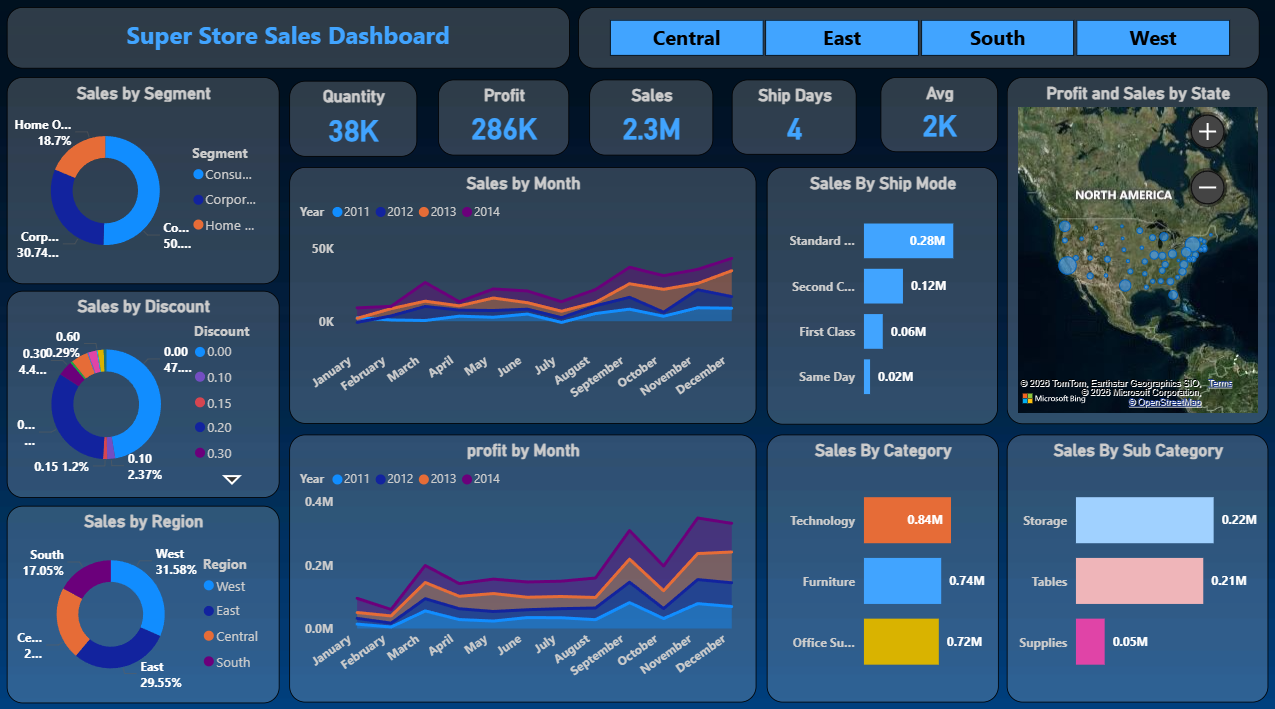

The dashboard page shown, as its layout file describes it:
{"tool":"powerbi","page":{"name":"Page 1","canvas":[1280,720],"ordinal":0},"visuals":[{"type":"clusteredBarChart","title":" Sales By Category","fields":{"Category":["Superstore.Category"],"Y":["Sum(Superstore.Sales)"]},"box":[768.5,437.9,231.6,267.8],"z":0},{"type":"clusteredBarChart","title":" Sales By Sub Category","fields":{"Category":["Superstore.Sub-Category"],"Y":["Sum(Superstore.Sales)"]},"box":[1008.6,437.9,261.8,267.8],"z":1000},{"type":"clusteredBarChart","title":" Sales By Ship Mode","fields":{"Category":["Superstore.Ship Mode"],"Y":["Sum(Superstore.Sales)"]},"box":[768.8,170,231.2,257.5],"z":2000},{"type":"stackedAreaChart","title":"profit by Month ","fields":{"Category":["Superstore.Order Date.Variation.Date Hierarchy.Month"],"Y":["Sum(Superstore.Sales)"],"Series":["Superstore.Order Date.Variation.Date Hierarchy.Year"]},"box":[290.8,437.9,466.9,267.8],"z":3000},{"type":"stackedAreaChart","title":"Sales by Month ","fields":{"Category":["Superstore.Order Date.Variation.Date Hierarchy.Month"],"Series":["Superstore.Order Date.Variation.Date Hierarchy.Year"],"Y":["Sum(Superstore.Profit)"]},"box":[290.8,170.1,466.9,257],"z":4000},{"type":"map","title":"Profit and Sales by State","fields":{"Category":["Superstore.State"],"Size":["Sum(Superstore.Sales)"]},"box":[1008.6,79.6,261.8,347.5],"z":5000},{"type":"donutChart","title":"Sales by Segment","fields":{"Category":["Superstore.Segment"],"Y":["Sum(Superstore.Sales)"]},"box":[8.4,79.6,272.7,207.5],"z":6000},{"type":"donutChart","title":" Sales by Discount","fields":{"Y":["Sum(Superstore.Sales)"],"Series":["Superstore.Discount"]},"box":[8.8,293.8,272.5,207.5],"z":7000},{"type":"slicer","fields":{"Values":["Superstore.Region"]},"box":[580.3,9.7,681.6,61.5],"z":8000},{"type":"textbox","box":[8.4,9.7,563.4,61.5],"z":9000},{"type":"card","title":"Sales","fields":{"Values":["Sum(Superstore.Sales)"]},"box":[591.2,82,124.3,76],"z":10000},{"type":"card","title":"Quantity","fields":{"Values":["Sum(Superstore.Quantity)"]},"box":[290.8,83.2,127.9,76],"z":11000},{"type":"card","title":"Profit","fields":{"Values":["Sum(Superstore.Profit)"]},"box":[440.4,82,131.5,76],"z":12000},{"type":"card","title":"Ship Days","fields":{"Values":["Avg(Superstore.Average Delivery)"]},"box":[733.8,82.5,125,75],"z":13000},{"type":"donutChart","title":" Sales by Region","fields":{"Category":["Superstore.Region"],"Y":["Sum(Superstore.Sales)"]},"box":[8.8,508.8,272.5,197.5],"z":14000},{"type":"card","title":"Avg","fields":{"Values":["Sum(Superstore.Discount)"]},"box":[882.5,80,117.5,75],"z":15000}]}

Visuals, with their boxes in screenshot pixels (x1, y1, x2, y2), scaled from the page's 1280x720 canvas onto the 1275x709 screenshot:
" Sales By Category" clusteredBarChart: l=765, t=431, r=996, b=695
" Sales By Sub Category" clusteredBarChart: l=1005, t=431, r=1265, b=695
" Sales By Ship Mode" clusteredBarChart: l=766, t=167, r=996, b=421
"profit by Month " stackedAreaChart: l=290, t=431, r=755, b=695
"Sales by Month " stackedAreaChart: l=290, t=168, r=755, b=421
"Profit and Sales by State" map: l=1005, t=78, r=1265, b=421
"Sales by Segment" donutChart: l=8, t=78, r=280, b=283
" Sales by Discount" donutChart: l=9, t=289, r=280, b=494
slicer - Superstore.Region: l=578, t=10, r=1257, b=70
textbox: l=8, t=10, r=570, b=70
"Sales" card: l=589, t=81, r=713, b=156
"Quantity" card: l=290, t=82, r=417, b=157
"Profit" card: l=439, t=81, r=570, b=156
"Ship Days" card: l=731, t=81, r=855, b=155
" Sales by Region" donutChart: l=9, t=501, r=280, b=696
"Avg" card: l=879, t=79, r=996, b=153
